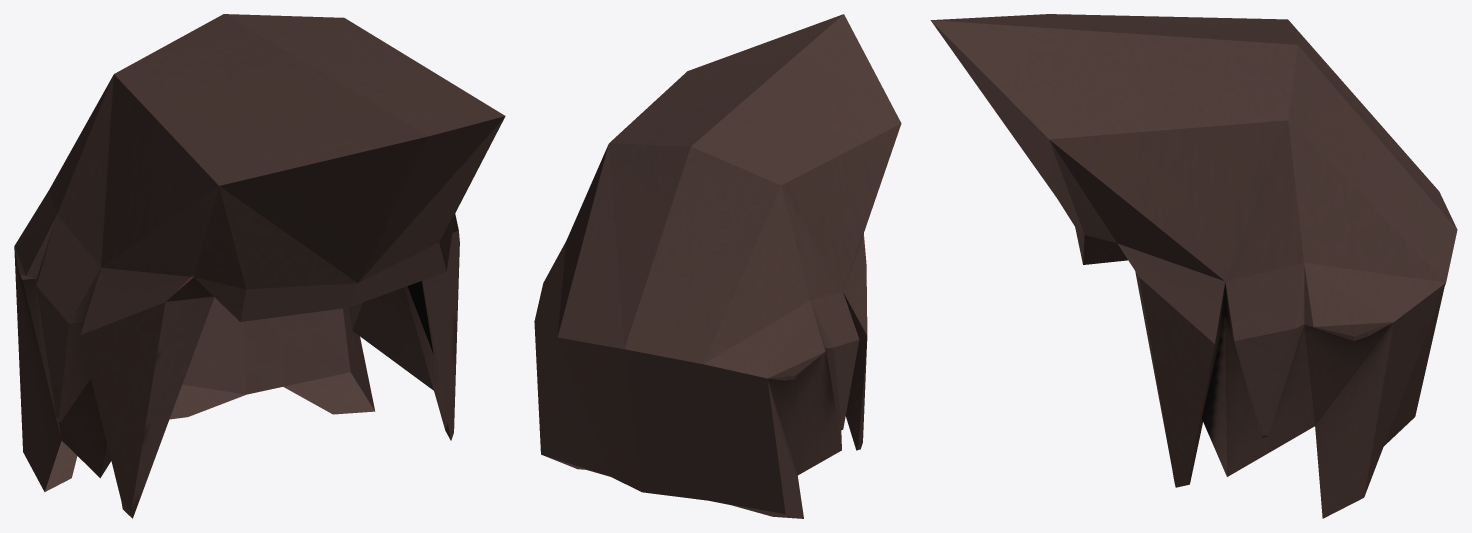
Rendered from TallChHair.FBX.
3 views of the same model, side by side, from view 1: azimuth 30°, elevation 25°; view 2: azimuth 150°, elevation 25°; view 3: azimuth 270°, elevation 25° (orthographic). The views are drawn at different scales.
Visible parts, largest first — view 1: TallCh Hair; view 2: TallCh Hair; view 3: TallCh Hair.
Part boxes in pixels (bbox=[...]): TallCh Hair: bbox=[14, 14, 505, 518]; TallCh Hair: bbox=[534, 14, 901, 518]; TallCh Hair: bbox=[930, 14, 1457, 518].
Bounding box in the file's own units: 212 × 283 × 253.
1 material, 1 textured.
